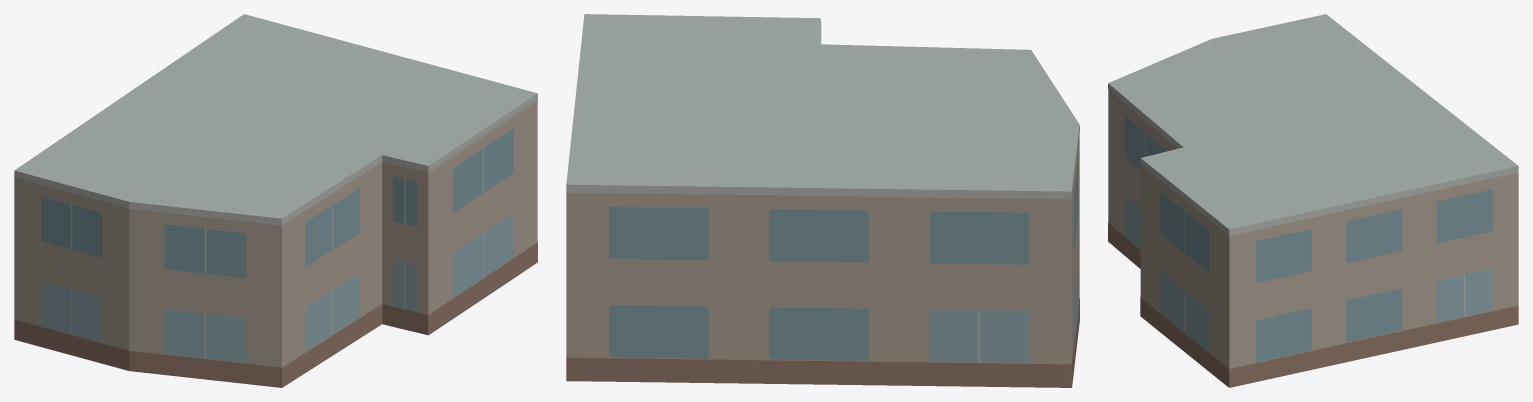
The model's file is survey-upis-32785657.glb.
The picture shows the model from 3 angles, left to right: view 1: azimuth 30°, elevation 25°; view 2: azimuth 150°, elevation 25°; view 3: azimuth 270°, elevation 25°; orthographic projection. The views are drawn at different scales.
Parts seen in each view (by area): view 1: survey-upis-32785657.tmp; view 2: survey-upis-32785657.tmp; view 3: survey-upis-32785657.tmp.
Boxes of the visible parts, x1=… form: survey-upis-32785657.tmp: x1=14, y1=14, x2=537, y2=387; survey-upis-32785657.tmp: x1=566, y1=14, x2=1079, y2=387; survey-upis-32785657.tmp: x1=1108, y1=14, x2=1518, y2=387.
Bounding box in the file's own units: 17.81 × 6.1 × 14.34.
